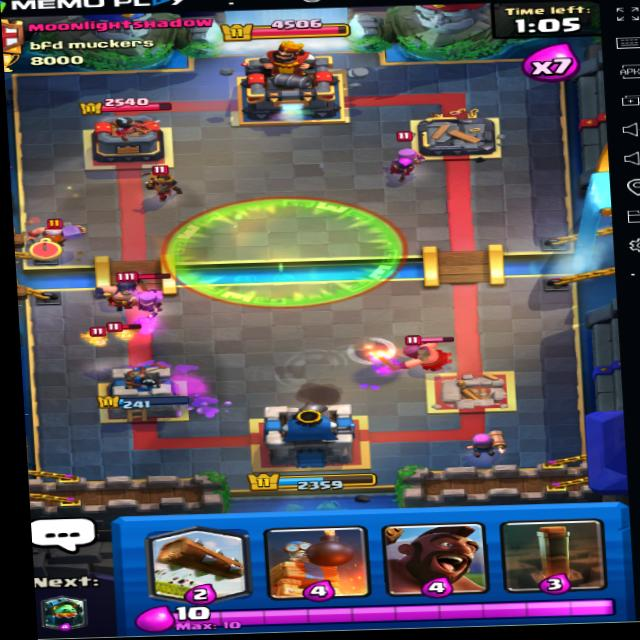executioner: (83, 268, 163, 314), (393, 329, 457, 373)
goblin-curse: (159, 193, 414, 313)
little-prince: (137, 162, 190, 206)
lumberjack: (24, 216, 91, 259)
mother-witch: (112, 270, 184, 324), (377, 128, 438, 185)
